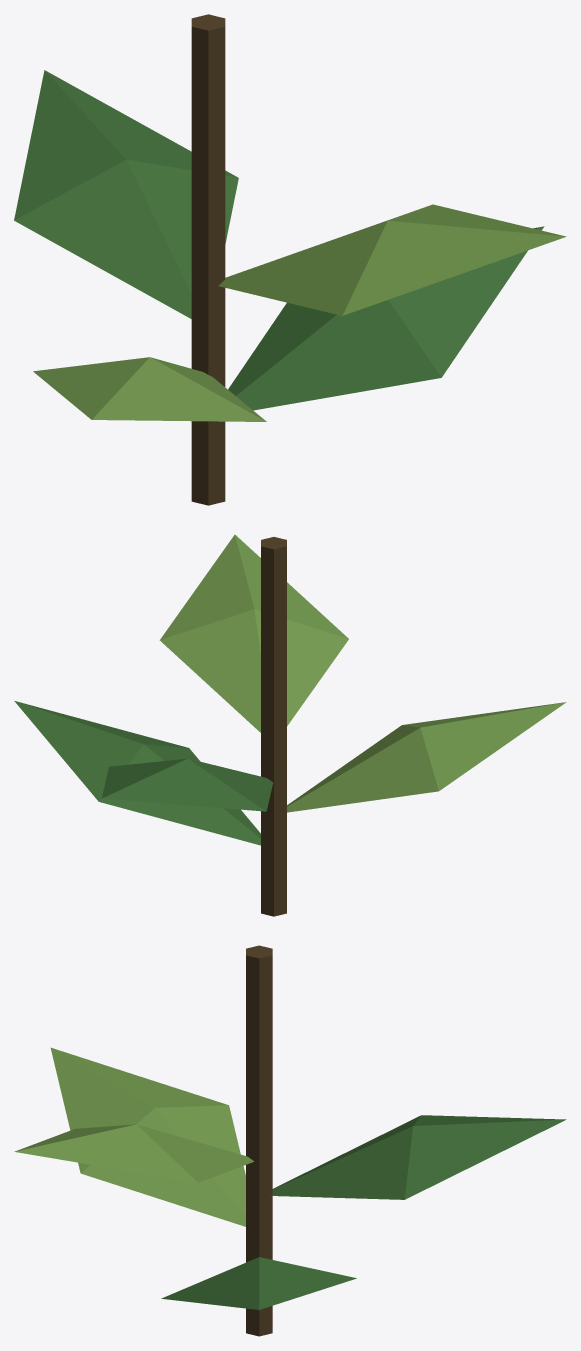
Rendered from Cotton2.gltf.
3 views of the same model, one above another, from view 1: azimuth 30°, elevation 25°; view 2: azimuth 150°, elevation 25°; view 3: azimuth 270°, elevation 25° (orthographic). The views are drawn at different scales.
Visible parts, largest first — view 1: Cotton2; view 2: Cotton2; view 3: Cotton2.
Part boxes in pixels (x1,y1,x2,y2): Cotton2: [14, 14, 566, 505]; Cotton2: [14, 534, 566, 916]; Cotton2: [14, 945, 566, 1336].
Size of the model in its own units: 0.278 by 0.216 by 0.2864.
